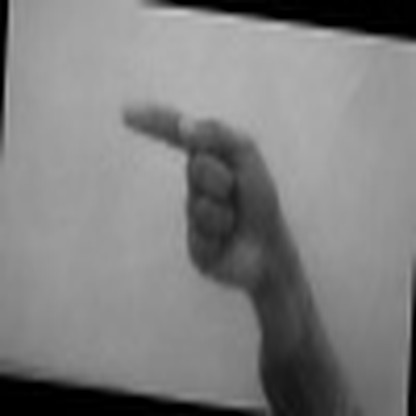g: (112, 92, 292, 289)
